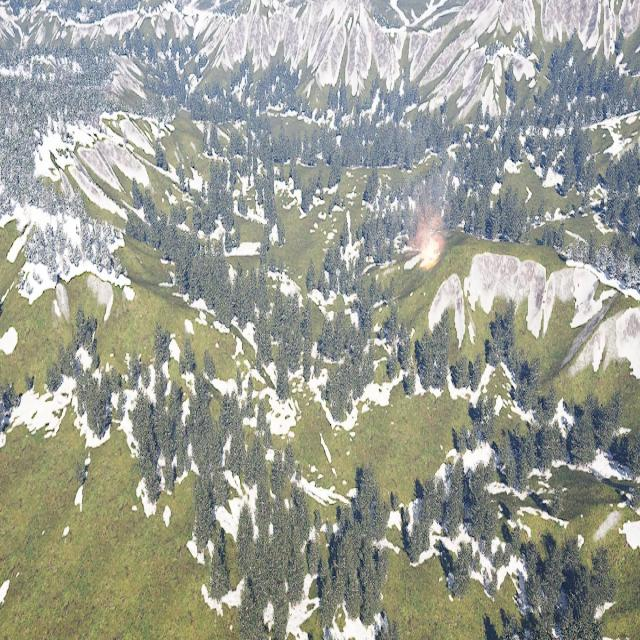fire: (420, 238, 440, 268)
smoke: (410, 179, 448, 249)
